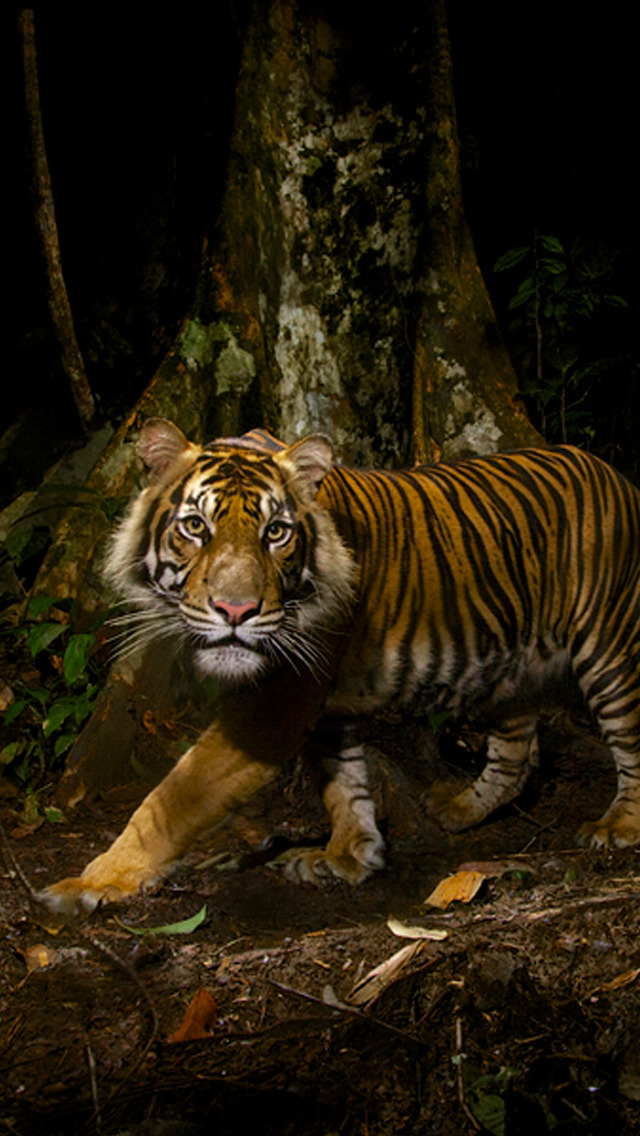Tigrew: (65, 387, 599, 883)
